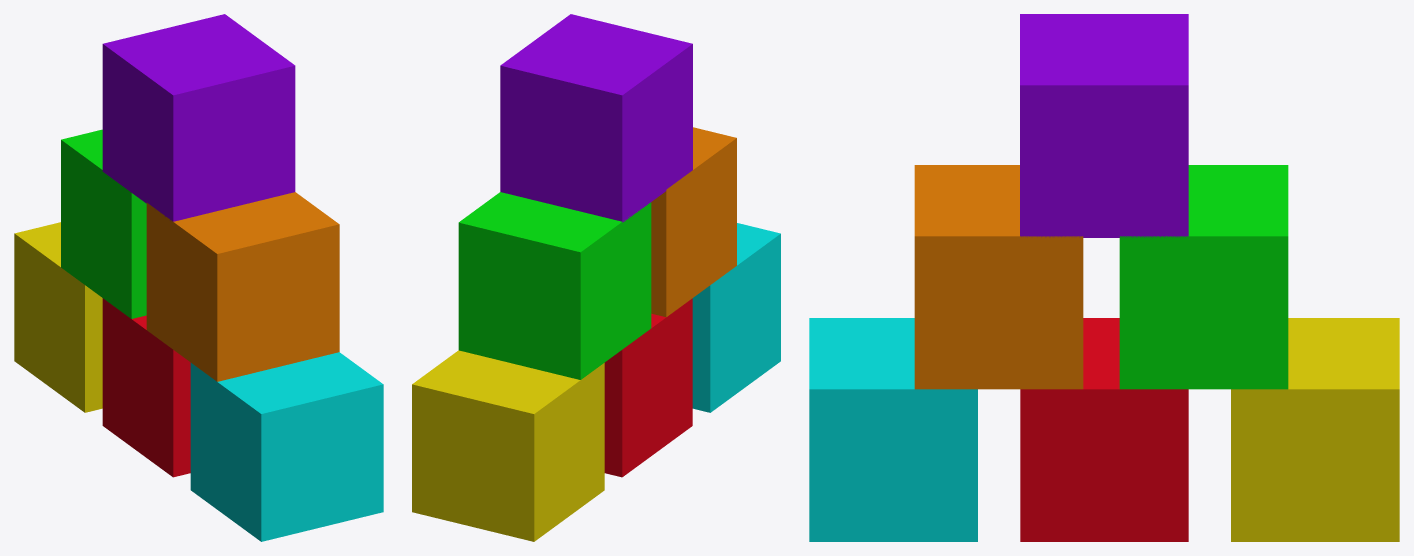
File: Cubs.glb
The picture shows the model from 3 angles, left to right: view 1: azimuth 30°, elevation 25°; view 2: azimuth 150°, elevation 25°; view 3: azimuth 270°, elevation 25°; orthographic projection. The views are drawn at different scales.
Parts seen in each view (by area): view 1: Cube.006, Cube.004, Cube.003, Cube.002, Cube.005, Cube.001; view 2: Cube.006, Cube.002, Cube.005, Cube.003, Cube.004, Cube.001; view 3: Cube.006, Cube.002, Cube.004, Cube.003, Cube.005, Cube.001.
Boxes of the visible parts, bbox=[...] form: Cube.006: bbox=[102, 14, 295, 221]; Cube.004: bbox=[146, 192, 339, 381]; Cube.003: bbox=[190, 352, 383, 541]; Cube.002: bbox=[14, 222, 102, 412]; Cube.005: bbox=[61, 129, 146, 318]; Cube.001: bbox=[102, 298, 190, 477]; Cube.006: bbox=[500, 14, 692, 222]; Cube.002: bbox=[412, 350, 604, 541]; Cube.005: bbox=[458, 192, 651, 379]; Cube.003: bbox=[692, 223, 780, 412]; Cube.004: bbox=[651, 127, 736, 317]; Cube.001: bbox=[604, 298, 692, 477]; Cube.006: bbox=[1020, 14, 1188, 237]; Cube.002: bbox=[1231, 318, 1399, 541]; Cube.004: bbox=[914, 165, 1083, 389]; Cube.003: bbox=[809, 318, 977, 541]; Cube.005: bbox=[1119, 165, 1288, 389]; Cube.001: bbox=[1020, 318, 1188, 541].
Size of the model in its own units: 2 by 5.98 by 7.
